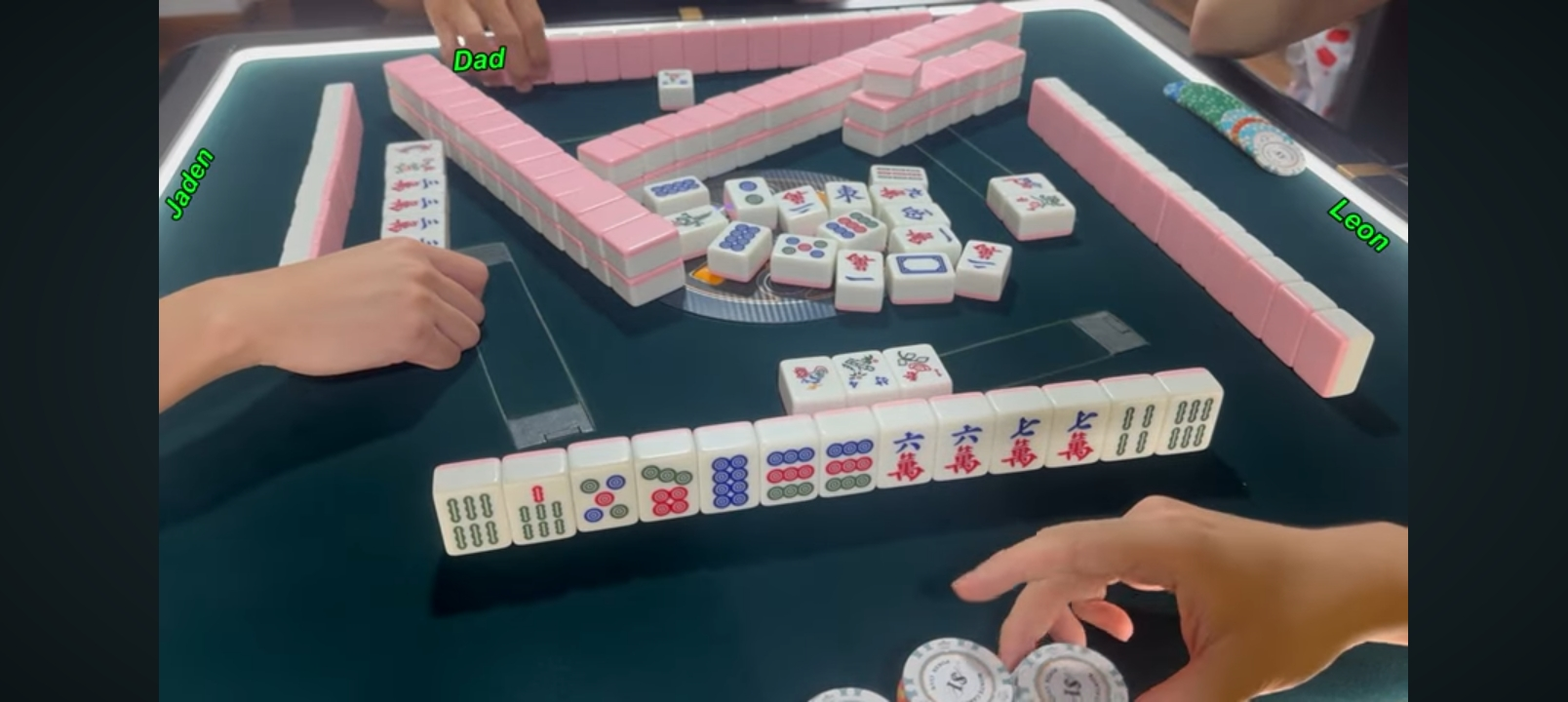TILE: (435, 489, 506, 553), (505, 480, 572, 545), (570, 465, 634, 529), (636, 458, 700, 522), (701, 449, 762, 513), (1160, 395, 1227, 452), (762, 444, 820, 507), (818, 438, 882, 495), (1052, 403, 1109, 464), (995, 410, 1050, 473), (936, 419, 993, 478), (882, 428, 938, 488), (1107, 400, 1163, 459), (890, 344, 955, 389), (781, 355, 842, 399), (838, 350, 894, 397)
